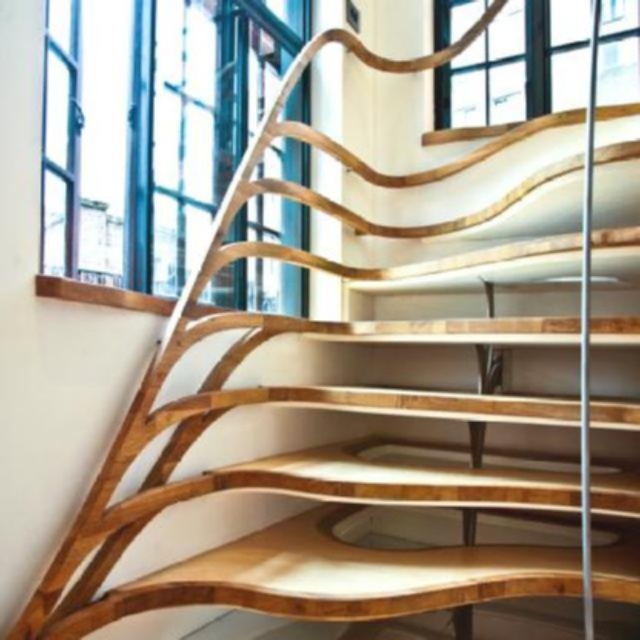stair: (0, 15, 640, 639)
